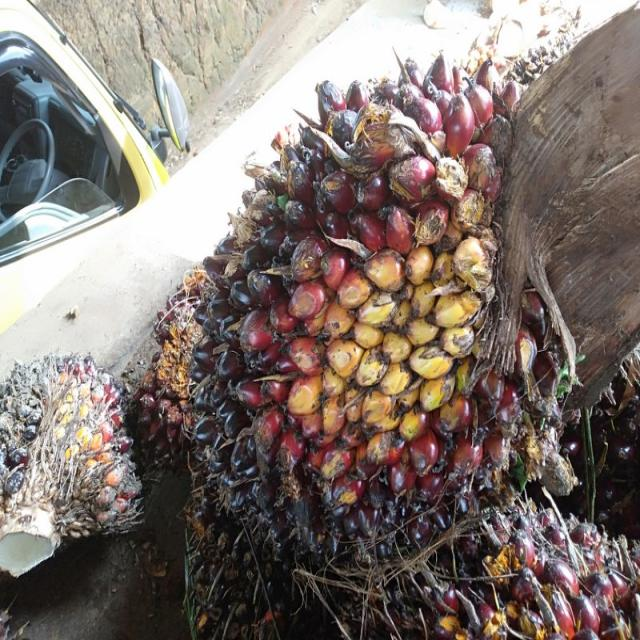fraksi 1: (191, 84, 582, 562)
